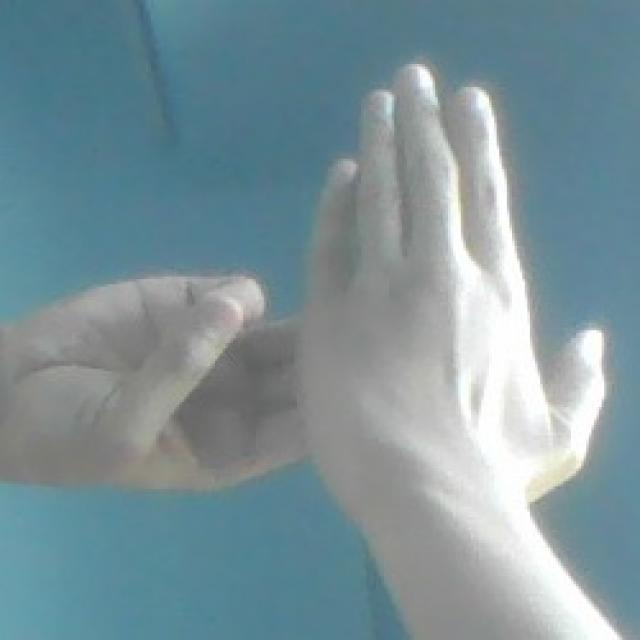Alphabet-M: (0, 49, 625, 527)
